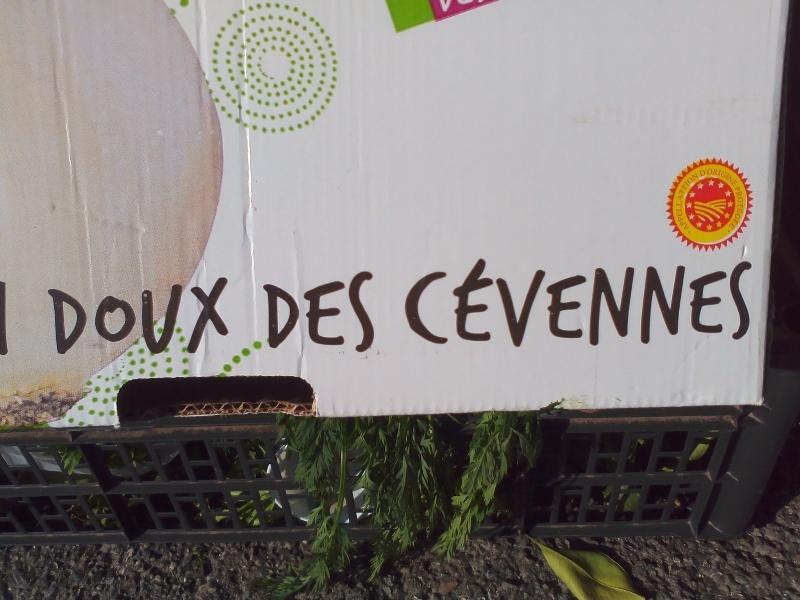text: (673, 160, 688, 261), (689, 160, 704, 261), (417, 255, 432, 349), (433, 255, 448, 349), (449, 255, 464, 349), (465, 255, 480, 349), (481, 255, 496, 349), (497, 255, 512, 349), (513, 255, 528, 349), (529, 255, 544, 349), (545, 255, 560, 349), (561, 255, 576, 349), (577, 255, 592, 349), (593, 255, 608, 349), (609, 255, 624, 349), (625, 255, 640, 349), (641, 255, 656, 349), (657, 255, 672, 349), (673, 255, 688, 349), (689, 255, 704, 349), (705, 255, 720, 349), (721, 255, 736, 349), (737, 255, 752, 349), (273, 265, 288, 355), (289, 265, 304, 355), (305, 265, 320, 355), (321, 265, 336, 355), (337, 265, 352, 355), (353, 265, 368, 355), (402, 255, 416, 349), (49, 276, 64, 356), (65, 276, 80, 356), (81, 276, 96, 356), (97, 276, 112, 356), (113, 276, 128, 356), (129, 276, 144, 356), (145, 276, 160, 356), (161, 276, 176, 356), (177, 276, 192, 356), (193, 276, 208, 356), (209, 276, 224, 356), (259, 265, 272, 355), (369, 265, 379, 355), (737, 181, 752, 233), (225, 276, 234, 356), (728, 181, 736, 233), (668, 160, 672, 261), (753, 255, 757, 349), (705, 167, 720, 188), (721, 167, 736, 188), (699, 167, 704, 188), (737, 167, 742, 188), (47, 276, 48, 356)
